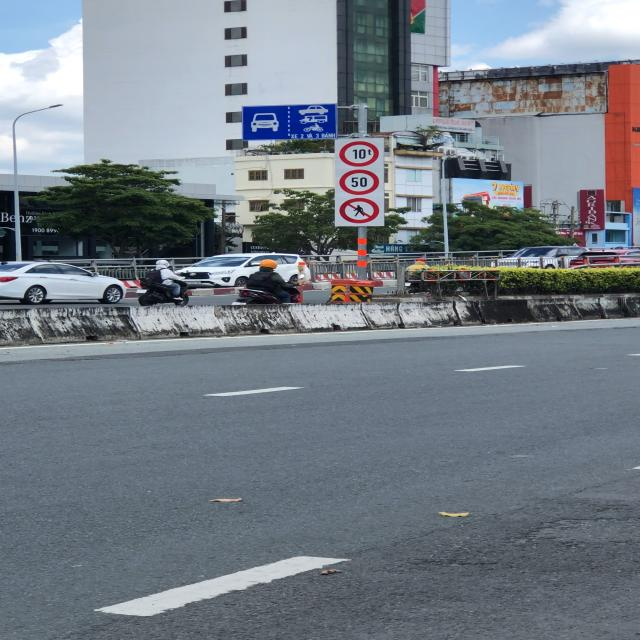Bien bao cam nguoi di bo: (338, 196, 382, 227)
Bien bao toc do toi da cho phep: (338, 168, 384, 195)
